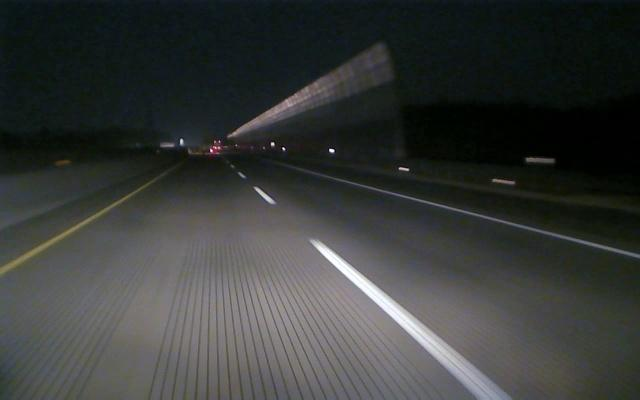lane: (237, 173, 514, 399), (338, 179, 640, 259), (1, 188, 142, 275)
